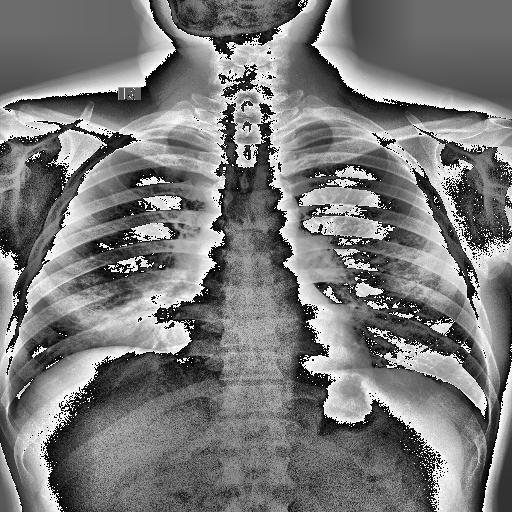13- Pulmonary fibrosis: (337, 254, 357, 264)
4- Consolidation: (72, 273, 196, 347), (95, 269, 188, 343)
6- Infiltration: (365, 237, 456, 302), (368, 234, 442, 308), (40, 265, 114, 337), (357, 238, 442, 300)
7- Lung Opacity: (44, 264, 189, 348), (72, 273, 196, 347), (365, 237, 456, 302)
